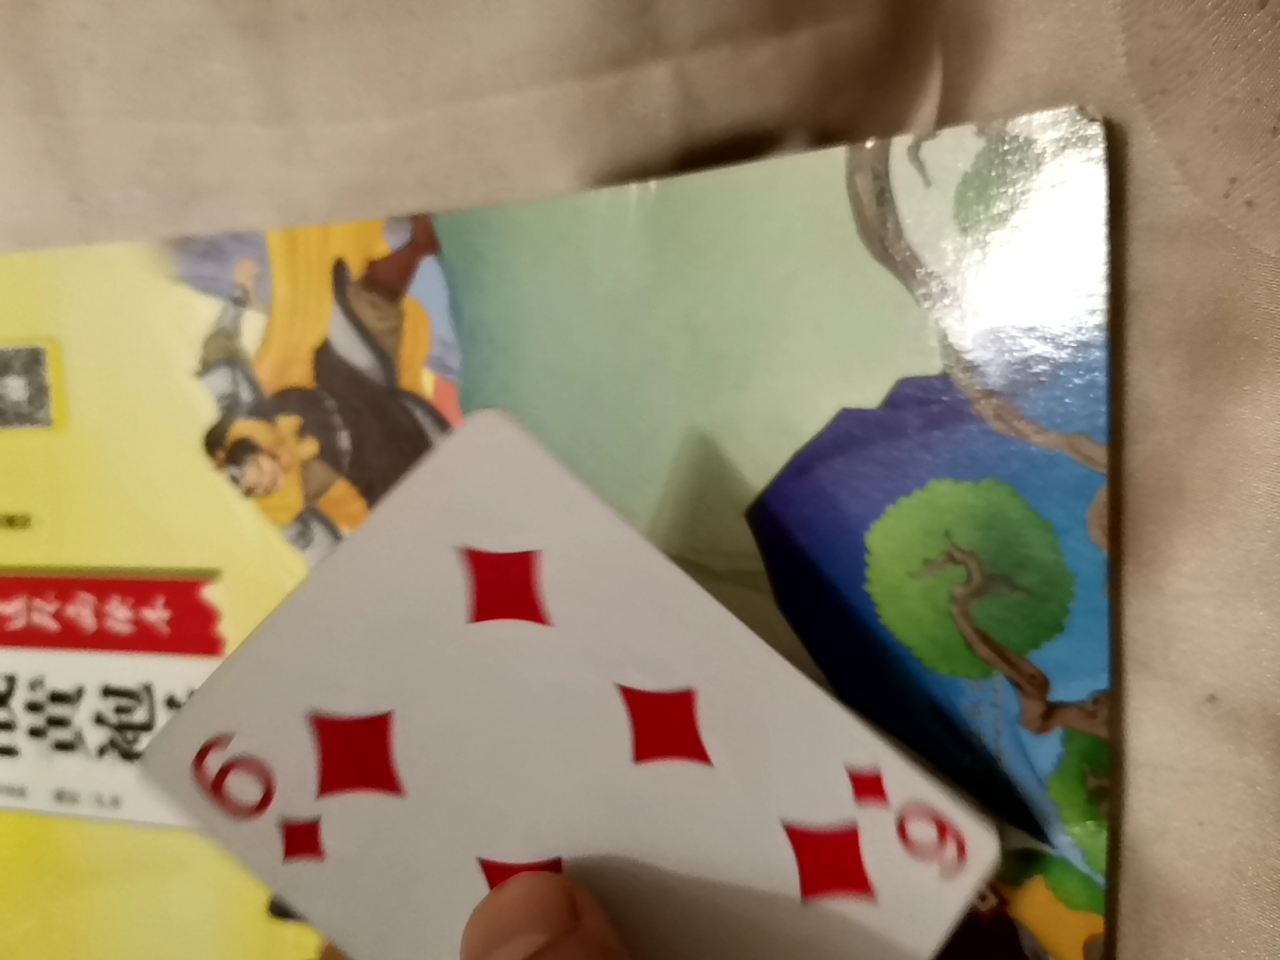fk 6: (249, 424, 954, 952)
